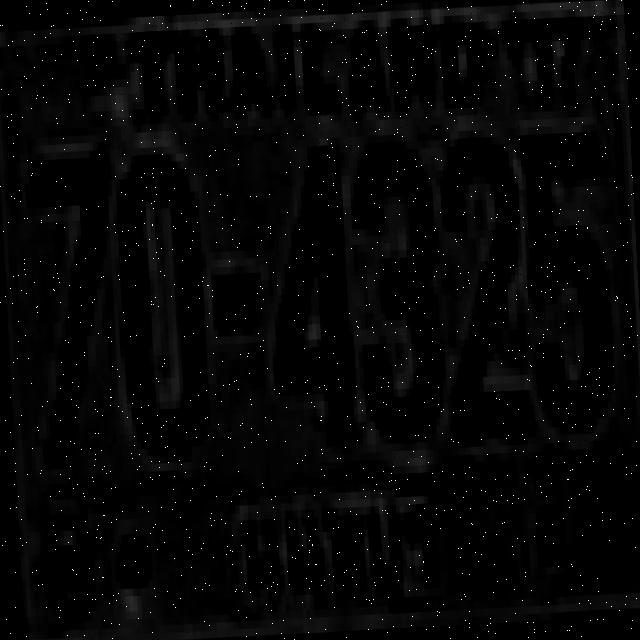0: (110, 146, 208, 450)
2: (435, 128, 525, 432)
3: (348, 133, 440, 430)
4: (261, 138, 351, 442)
5: (519, 120, 609, 424)
7: (23, 146, 118, 458)
Nonthaburi: (223, 460, 459, 640)
